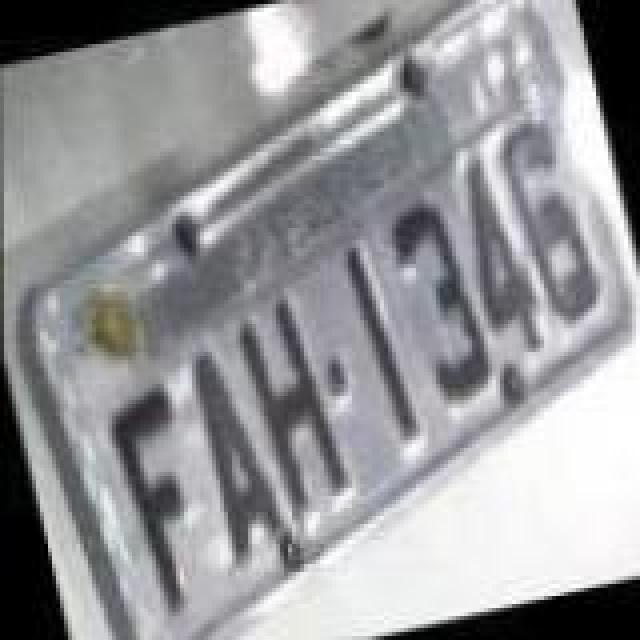1: (334, 238, 422, 450)
3: (380, 196, 496, 408)
4: (442, 142, 550, 362)
6: (494, 108, 610, 332)
A: (180, 338, 292, 562)
F: (102, 380, 222, 616)
H: (228, 290, 356, 518)
